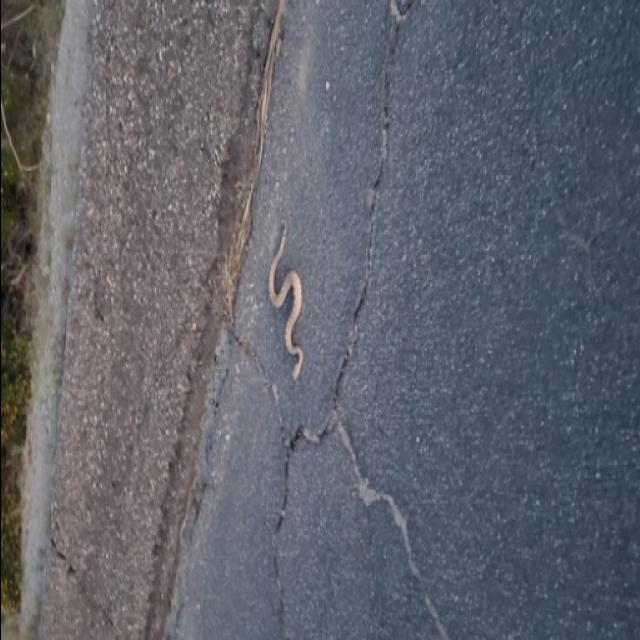snake: (262, 225, 316, 379)
